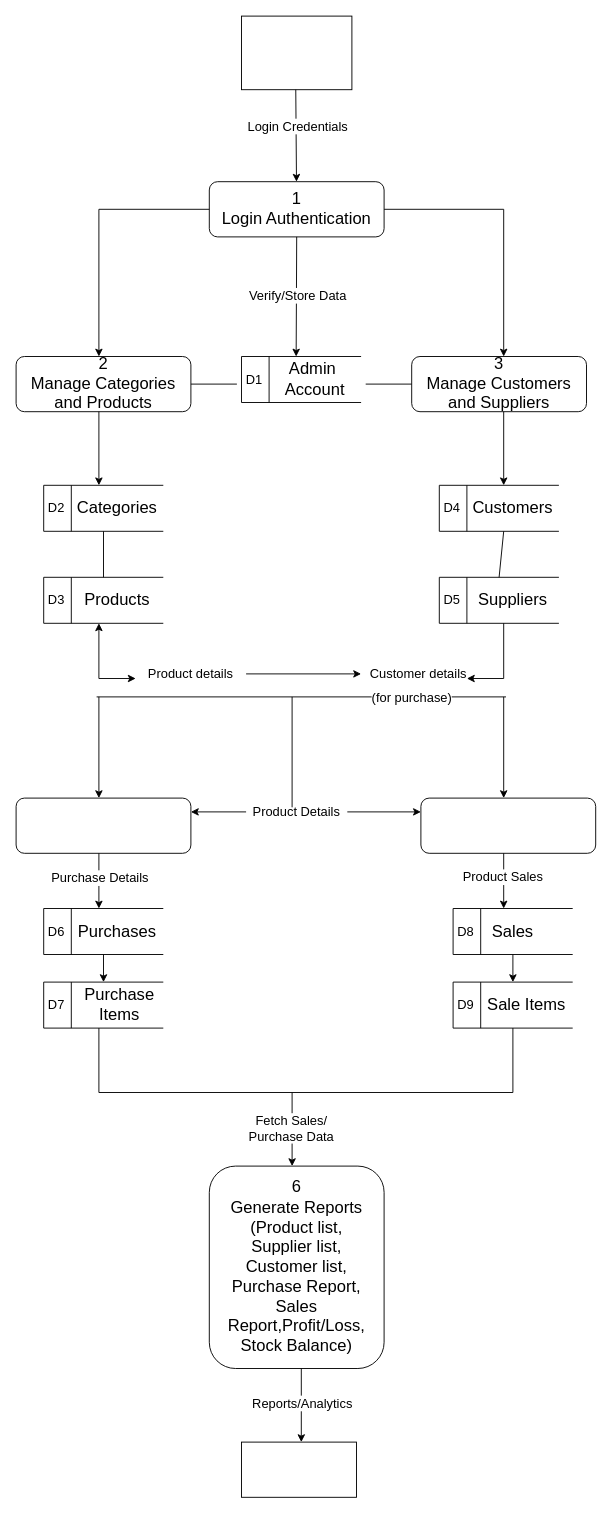
Some shapes in this 612 by 1513 pixel diagram are drawn without their labels. The shapes that lost their labels are listed below. From the top down, each one's centre as x and y in pixels, then its label:
the point at 296,52: ADMIN (Shop Owner)
the point at 103,825: 4 Purchase Management
the point at 508,825: 5 Sales Process
the point at 298,1469: ADMIN
